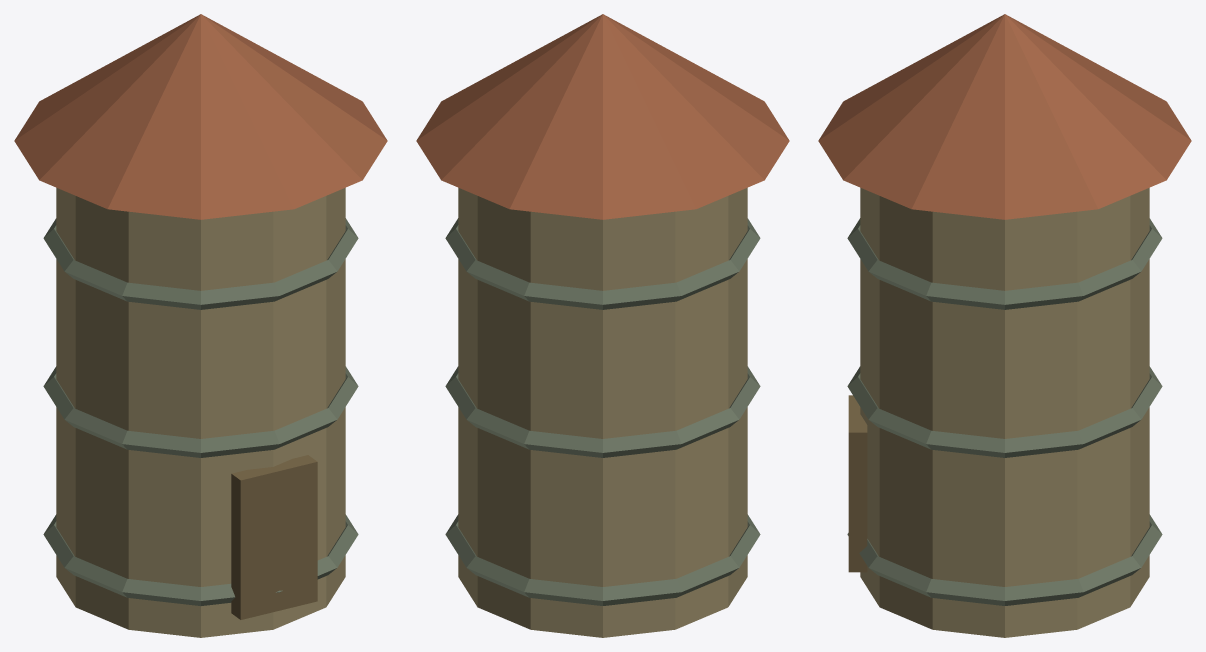
File: map-exclusive-v3__farm_07.glb
The picture shows the model from 3 angles, left to right: view 1: azimuth 30°, elevation 25°; view 2: azimuth 150°, elevation 25°; view 3: azimuth 270°, elevation 25°; orthographic projection.
Visible parts, largest first — view 1: farm_07; view 2: farm_07; view 3: farm_07.
Boxes of the visible parts, x1,y1,x2,y2 form: farm_07: (14,14,387,637); farm_07: (416,14,789,637); farm_07: (818,14,1191,637).
Bounding box in the file's own units: 1.6 × 2.66 × 1.6.
